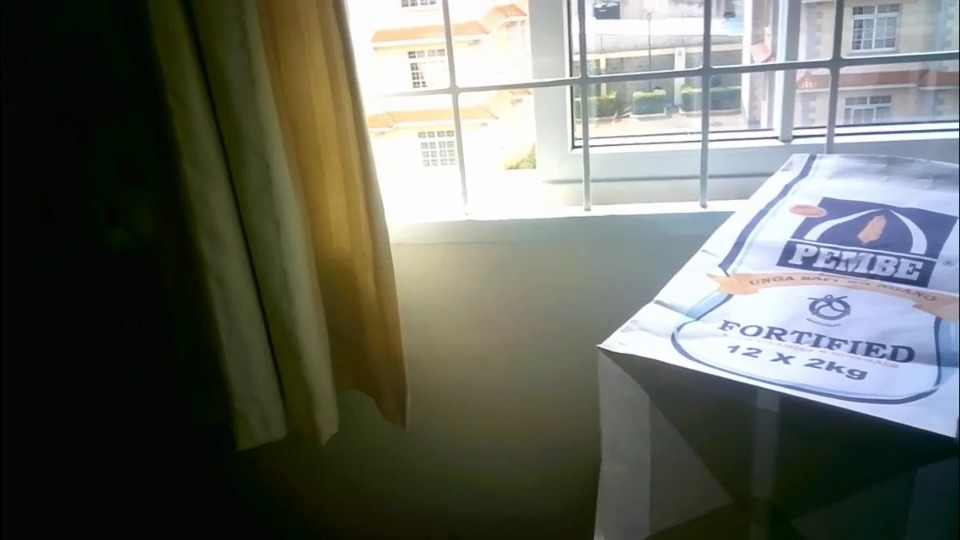wheat_flour_blue_label: (598, 148, 960, 538)
